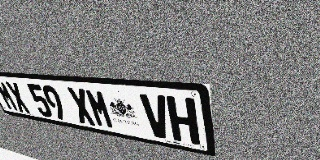5: (26, 83, 54, 118)
9: (40, 85, 69, 121)
H: (166, 96, 200, 145)
M: (84, 89, 115, 129), (0, 80, 20, 112)
V: (139, 93, 173, 140)
X: (66, 87, 97, 126), (4, 81, 31, 114)
